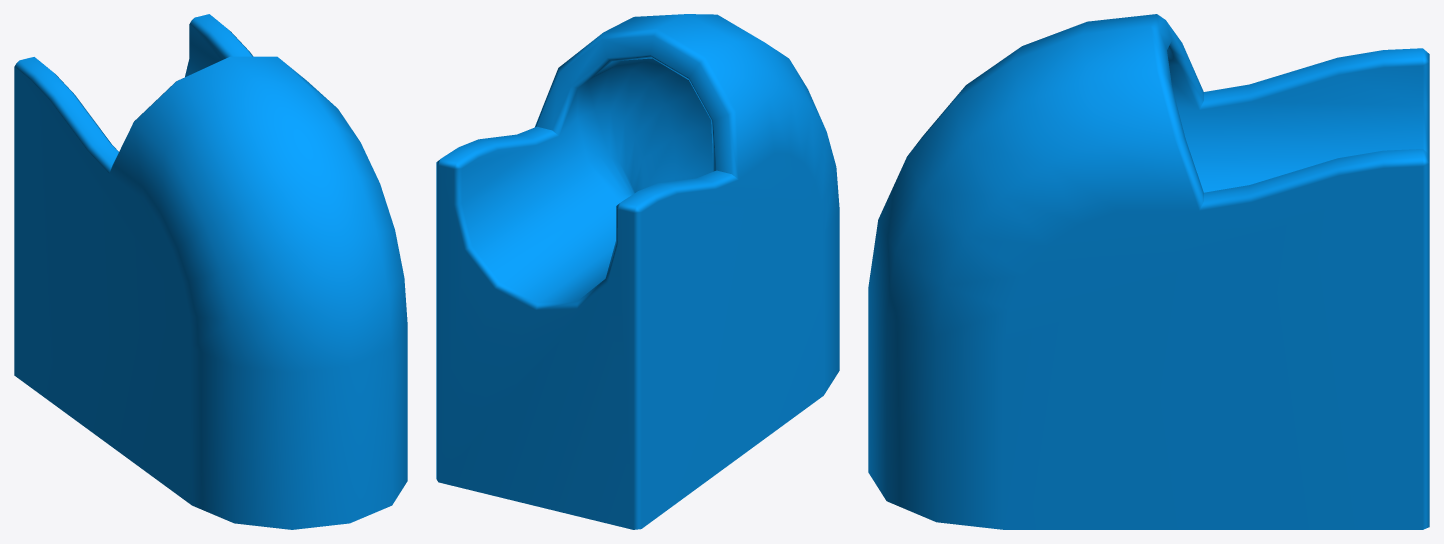
The model's file is Track Vertical Top 1x2.fbx.
The picture shows the model from 3 angles, left to right: view 1: azimuth 30°, elevation 25°; view 2: azimuth 150°, elevation 25°; view 3: azimuth 270°, elevation 25°; orthographic projection. The views are drawn at different scales.
Visible parts, largest first — view 1: Track Vertical Top 1x2; view 2: Track Vertical Top 1x2; view 3: Track Vertical Top 1x2.
Part boxes in pixels (x1=…): Track Vertical Top 1x2: x1=14, y1=14, x2=407, y2=529; Track Vertical Top 1x2: x1=436, y1=14, x2=839, y2=529; Track Vertical Top 1x2: x1=868, y1=14, x2=1429, y2=529.
Size of the model in its own units: 100 by 181 by 206.
